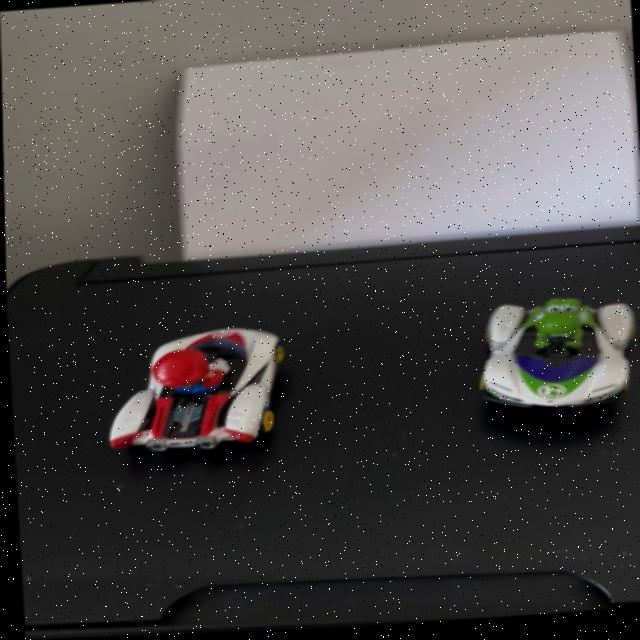mario: (84, 314, 304, 468)
yoshi: (461, 284, 640, 425)
